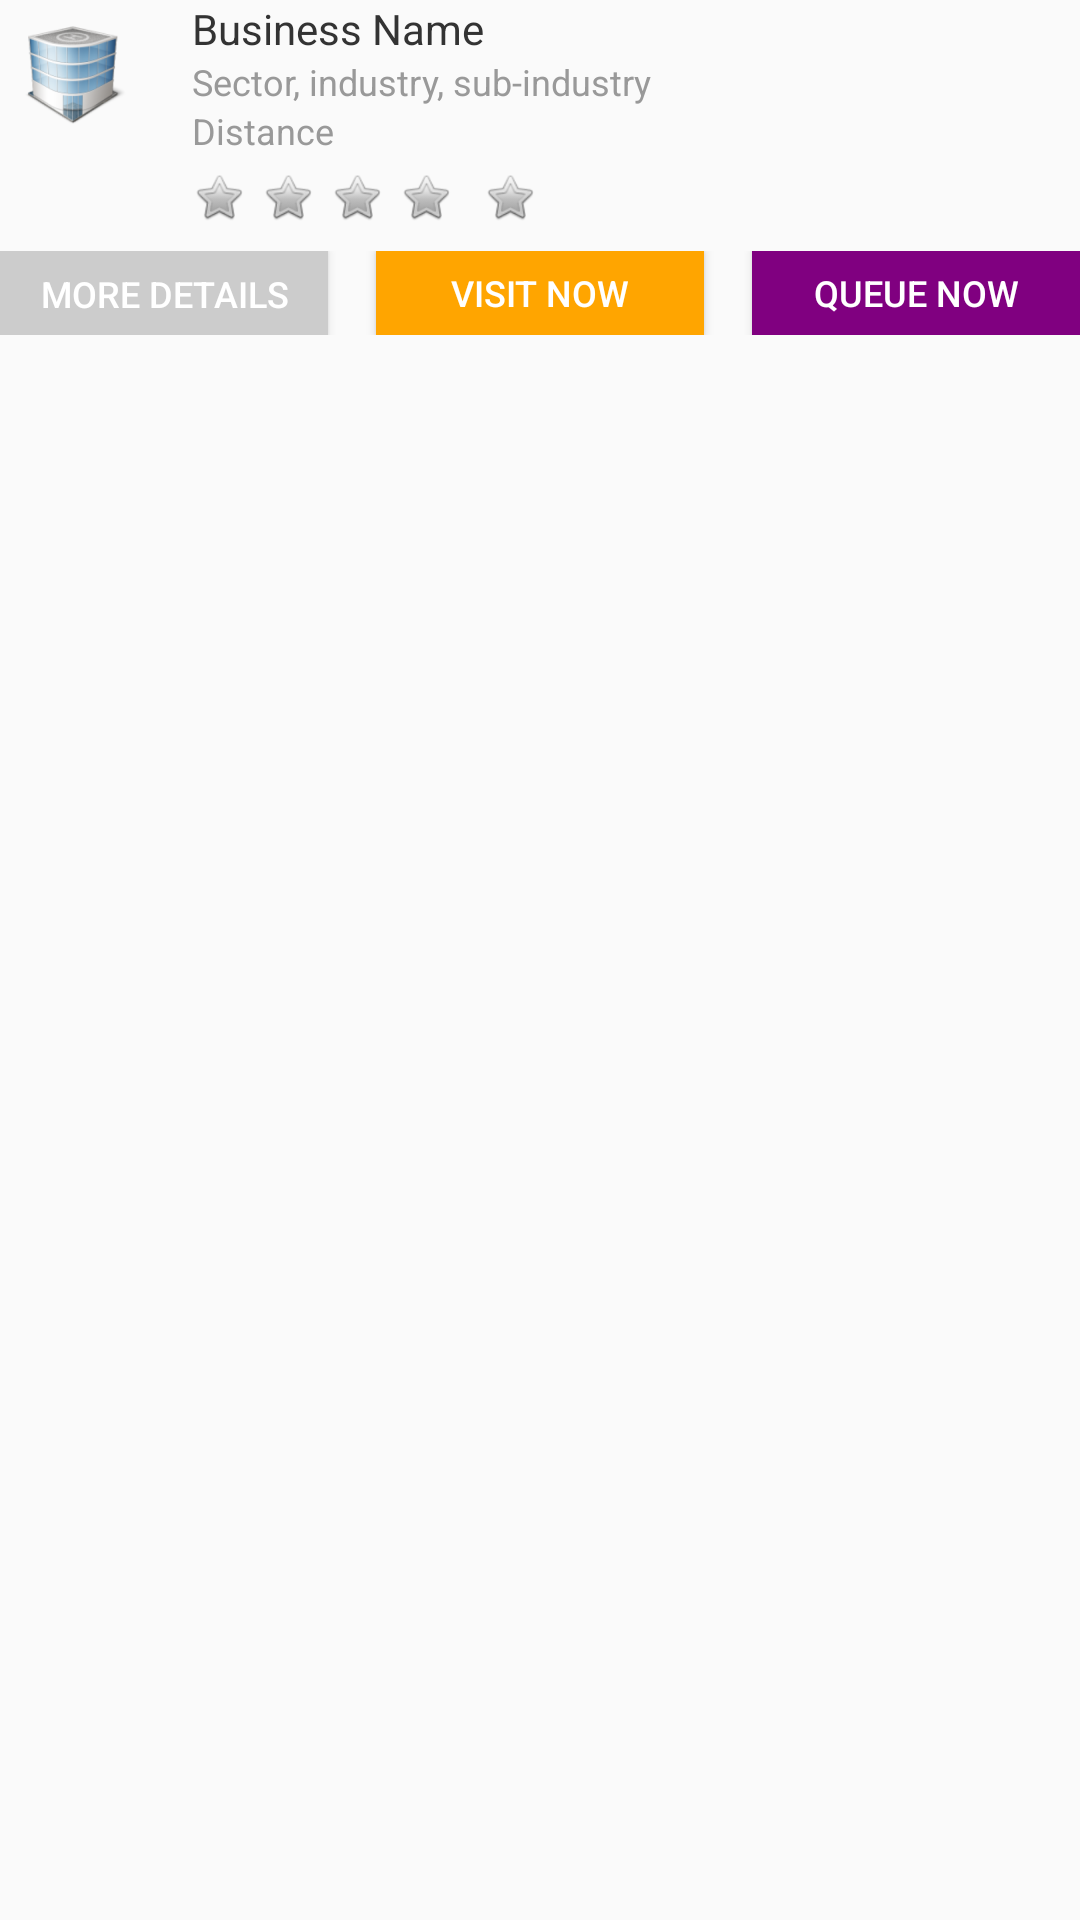

Icons on this 1080 × 1920 Android screen, each with the point to tap as [x,y]:
star: [219,197], [288,197], [357,197], [426,197], [510,197]
